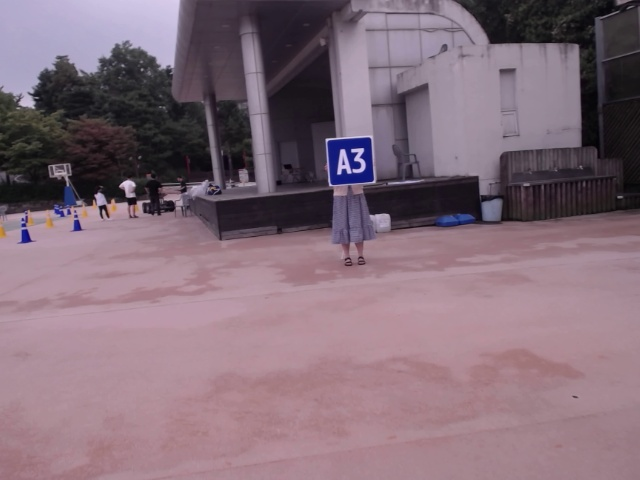delivery_a3: (326, 137, 375, 186)
